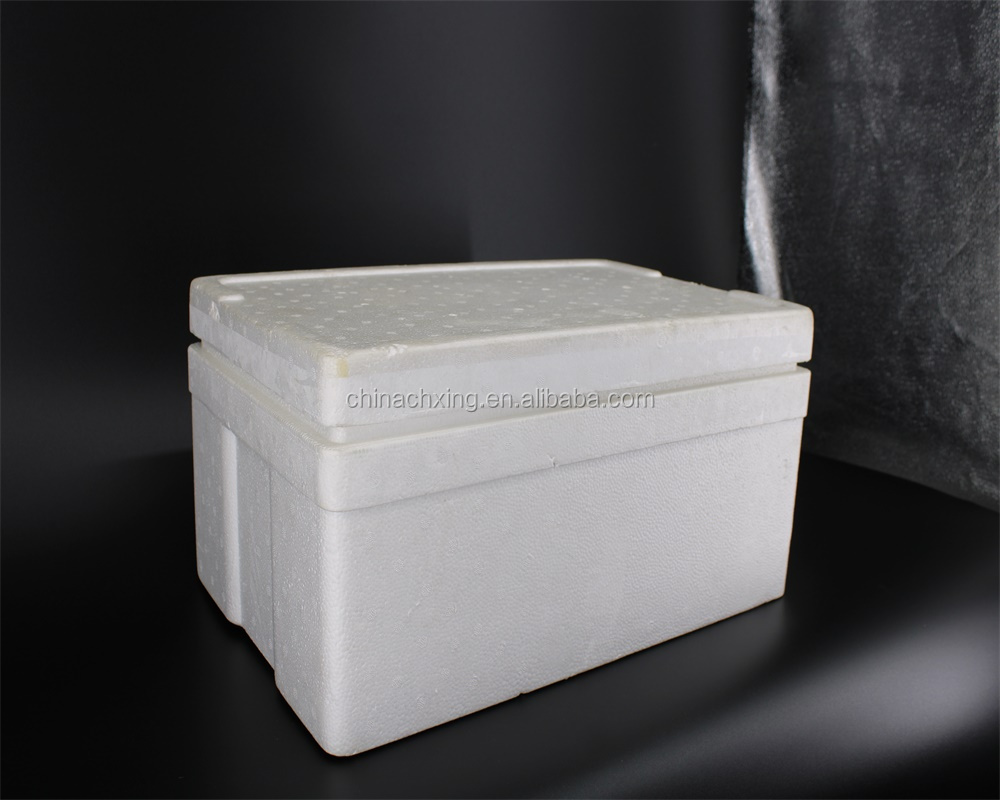Boxes: (188, 262, 810, 754)
